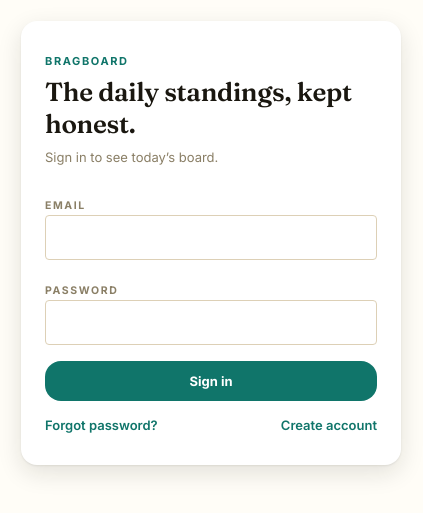
Test: SignInGate › shows an already-registered message on a 409 from register
Click the button "Create account": {"x": 329, "y": 425} [281,417,377,433]
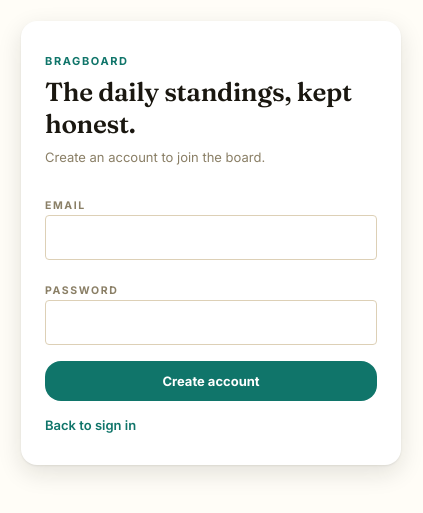
In the field labelled "Email": {"x": 211, "y": 238} [45,215,377,260], type "taken@example.com"
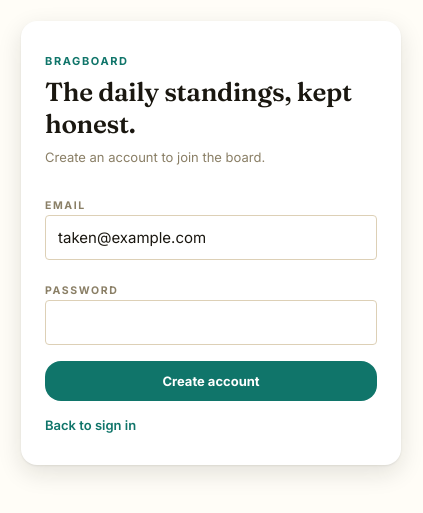
In the password field labelled "Password": {"x": 211, "y": 323} [45,300,377,345], type "brand-new-password"
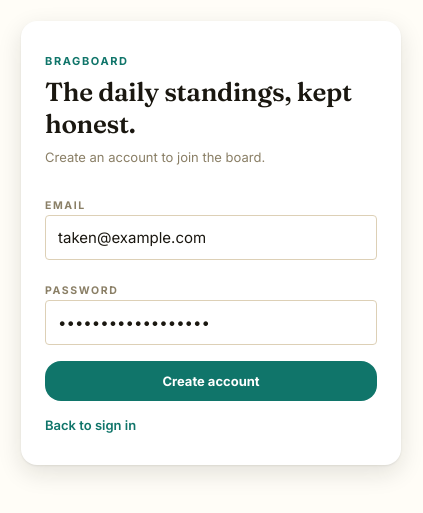
Click the button "Create account": {"x": 211, "y": 381} [45,361,377,401]
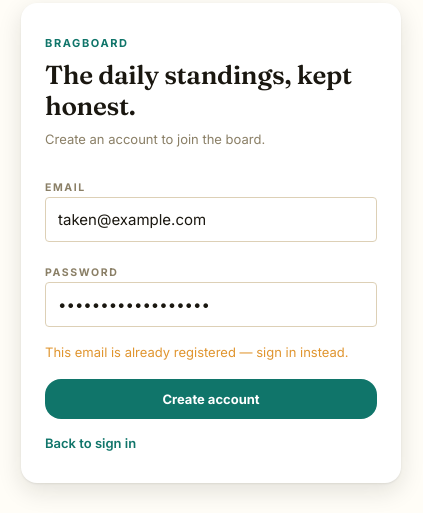
Expected: the text "This email is already registered — sign in instead." is shown, [45,343,377,363]
